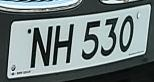0: (118, 12, 136, 54)
3: (100, 14, 118, 62)
5: (80, 16, 101, 68)
H: (53, 20, 75, 69)
N: (29, 21, 53, 72)
